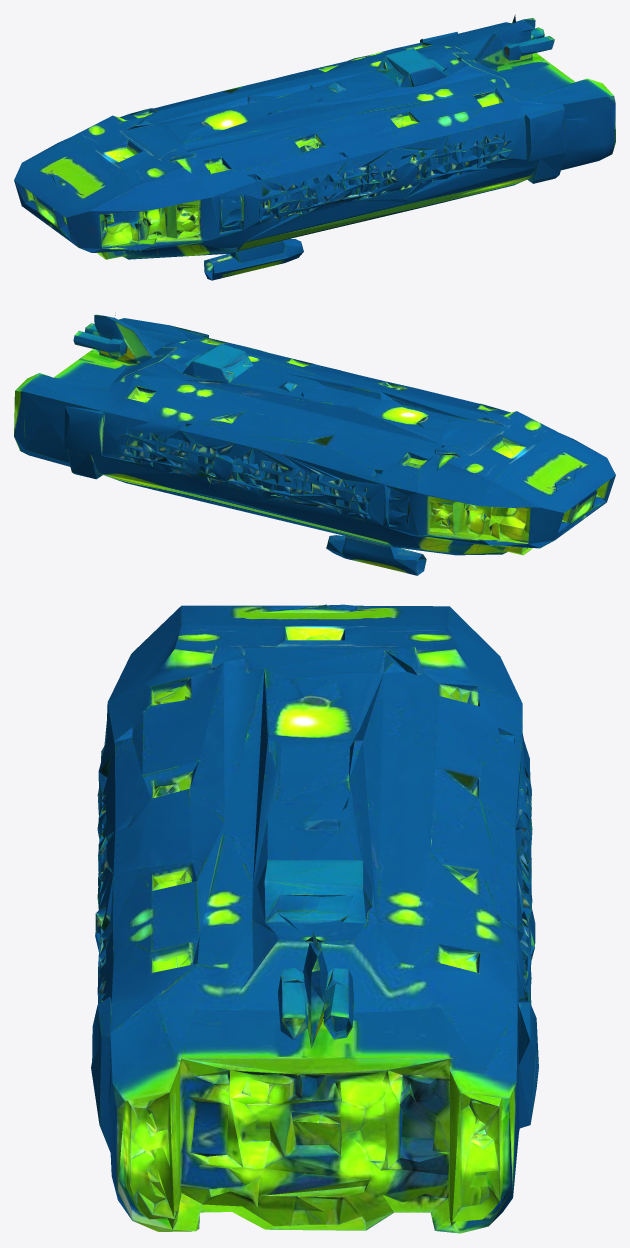
File: nation-k-carrier.glb
3 renders of one model, top to bottom at view 1: azimuth 30°, elevation 25°; view 2: azimuth 150°, elevation 25°; view 3: azimuth 270°, elevation 25°, orthographic. The views are drawn at different scales.
Bounding box in the file's own units: 1.9 × 0.5499 × 0.6992.
1 material, 1 textured.
